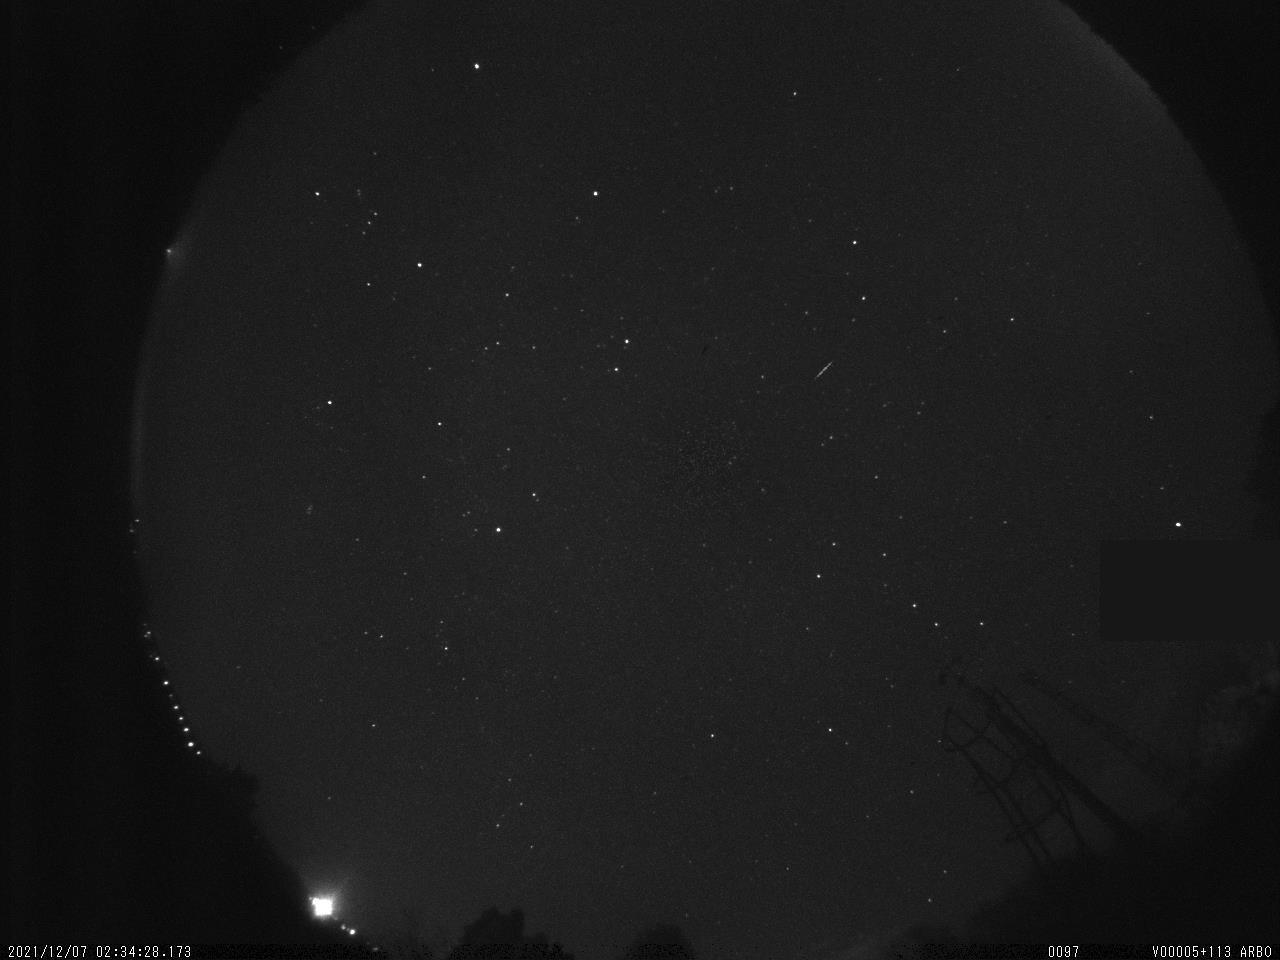meteor: (800, 352, 845, 390)
